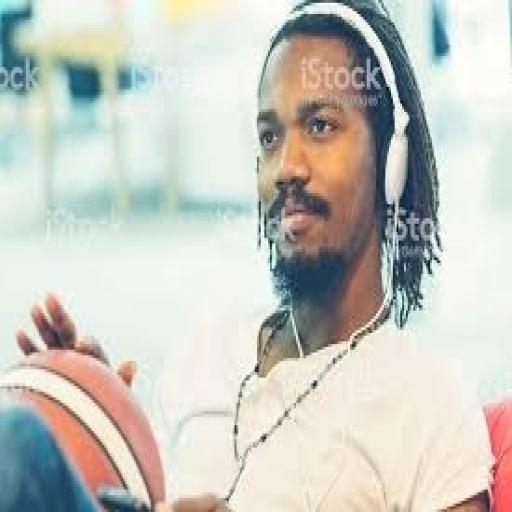listening_to_music: (2, 0, 506, 509)
